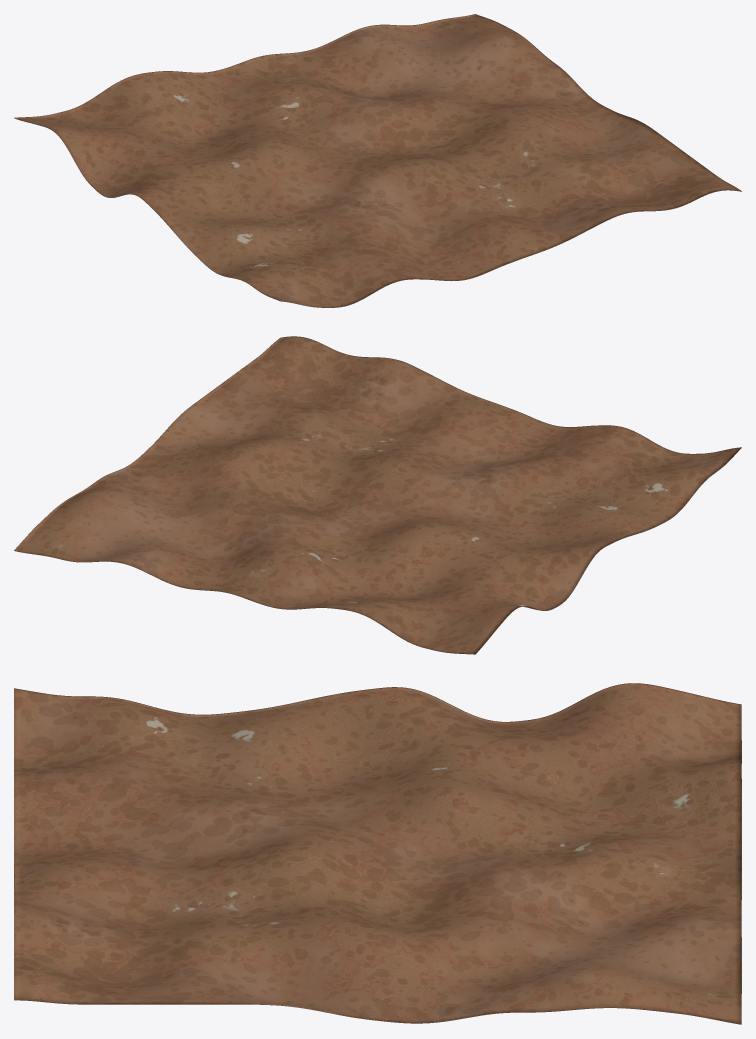
Rendered from terrain.glb.
3 renders of one model, top to bottom at view 1: azimuth 30°, elevation 25°; view 2: azimuth 150°, elevation 25°; view 3: azimuth 270°, elevation 25°, orthographic. The views are drawn at different scales.
Visible parts, largest first — view 1: terrain; view 2: terrain; view 3: terrain.
Part boxes in pixels (<box>): terrain: <box>14,14,741,307</box>; terrain: <box>14,336,741,654</box>; terrain: <box>14,683,741,1024</box>.
Size of the model in its own units: 10.01 by 0.6028 by 10.
Materials: 2 (1 with a texture image).
